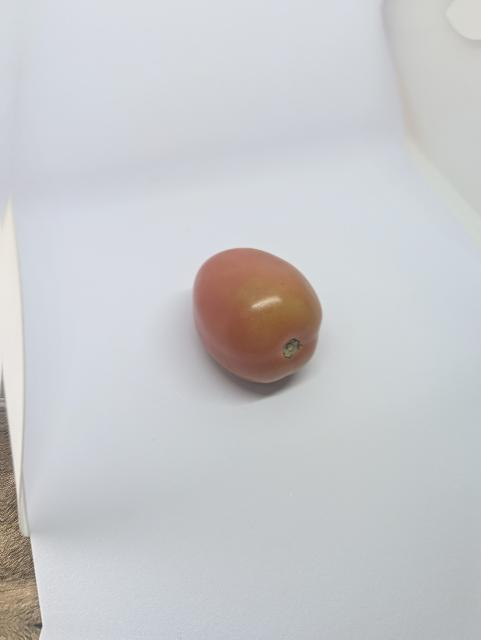turning: (184, 240, 331, 388)
